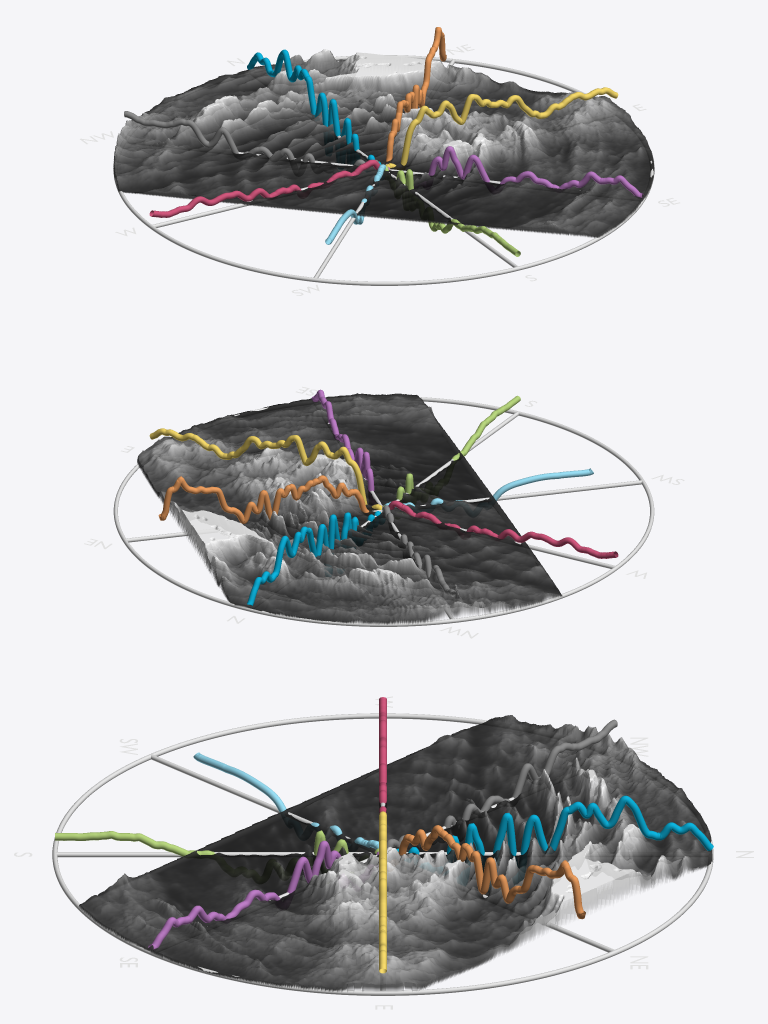
The model's file is AWE_radial_profiles-May26.glb.
3 views of the same model, one above another, from view 1: azimuth 30°, elevation 25°; view 2: azimuth 150°, elevation 25°; view 3: azimuth 270°, elevation 25° (orthographic). The views are drawn at different scales.
Parts seen in each view (by area): view 1: ProjectedDataPlane, RadialBoundary_Mesh, Profile_E_Mesh, Profile_N_Mesh, Profile_SE_Mesh, Profile_W_Mesh, Profile_NE_Mesh, Profile_NW_Mesh, Profile_S_Mesh, Profile_SW_Mesh; view 2: ProjectedDataPlane, RadialBoundary_Mesh, Profile_NE_Mesh, Profile_E_Mesh, Profile_N_Mesh, Profile_W_Mesh, Profile_SE_Mesh, Profile_NW_Mesh, Profile_S_Mesh, Profile_SW_Mesh, Axis_SW_Mesh; view 3: ProjectedDataPlane, RadialBoundary_Mesh, Profile_N_Mesh, Profile_NE_Mesh, Profile_SE_Mesh, Profile_NW_Mesh, Profile_S_Mesh, Profile_E_Mesh, Profile_SW_Mesh, Axis_S_Mesh, Axis_SW_Mesh, Profile_W_Mesh.
Part boxes in pixels (box(x1,y1,x2,y2)): ProjectedDataPlane: box(113, 49, 654, 237); RadialBoundary_Mesh: box(113, 55, 653, 285); Profile_E_Mesh: box(385, 87, 618, 168); Profile_N_Mesh: box(247, 49, 381, 164); Profile_SE_Mesh: box(388, 146, 643, 198); Profile_W_Mesh: box(149, 159, 379, 217); Profile_NE_Mesh: box(386, 27, 446, 161); Profile_NW_Mesh: box(124, 111, 380, 165); Profile_S_Mesh: box(384, 166, 520, 256); Profile_SW_Mesh: box(325, 164, 385, 244); ProjectedDataPlane: box(137, 393, 562, 624); RadialBoundary_Mesh: box(113, 397, 654, 626); Profile_NE_Mesh: box(158, 475, 369, 523); Profile_E_Mesh: box(149, 428, 382, 509); Profile_N_Mesh: box(247, 511, 380, 605); Profile_W_Mesh: box(388, 500, 618, 558); Profile_SE_Mesh: box(311, 389, 382, 507); Profile_NW_Mesh: box(382, 505, 456, 596); Profile_S_Mesh: box(382, 395, 520, 508); Profile_SW_Mesh: box(382, 468, 593, 510); Axis_SW_Mesh: box(420, 480, 642, 505); ProjectedDataPlane: box(79, 715, 712, 991); RadialBoundary_Mesh: box(52, 713, 713, 995); Profile_N_Mesh: box(396, 795, 713, 855); Profile_NE_Mesh: box(398, 825, 585, 919); Profile_SE_Mesh: box(148, 840, 378, 949); Profile_NW_Mesh: box(387, 719, 617, 848); Profile_S_Mesh: box(55, 830, 378, 856); Profile_E_Mesh: box(379, 811, 386, 973); Profile_SW_Mesh: box(193, 752, 378, 849); Axis_S_Mesh: box(55, 852, 371, 857); Axis_SW_Mesh: box(151, 754, 350, 838); Profile_W_Mesh: box(379, 697, 386, 812).
Bounding box in the file's own units: 1.13 × 0.1829 × 1.13.
11 materials, 1 textured.
